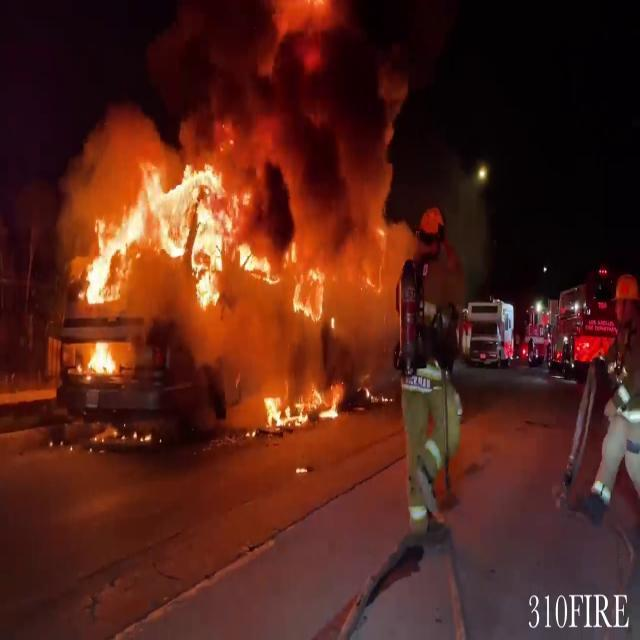Fire: (66, 145, 364, 403), (258, 377, 344, 430), (77, 337, 125, 380)
